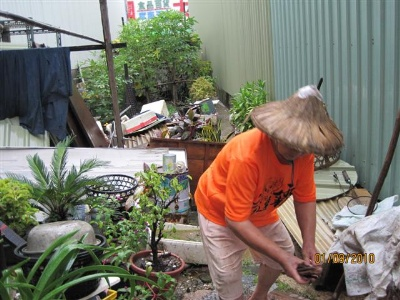bottle: (162, 153, 177, 172)
bowl: (22, 219, 102, 255)
box: (121, 111, 158, 134)
plastic_bag: (346, 208, 400, 296)
styrofoam: (160, 221, 207, 264), (141, 100, 169, 118)
